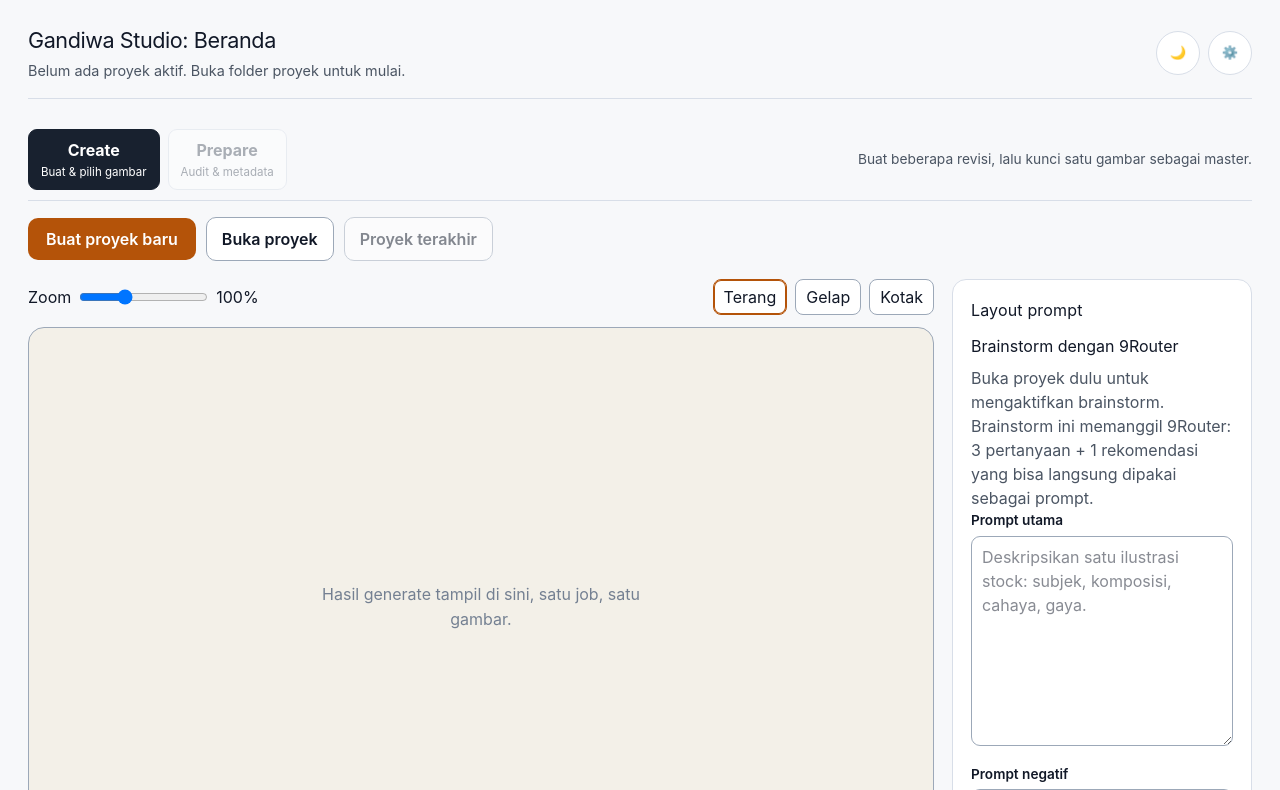
it: Beranda — setelan: bahasa & API key › renders the hallmacked settings desk with real provider connection controls and no tabs
Click the button named "Setelan". click: (1230, 53)
box: [1208, 31, 1252, 75]
(page scrolled)
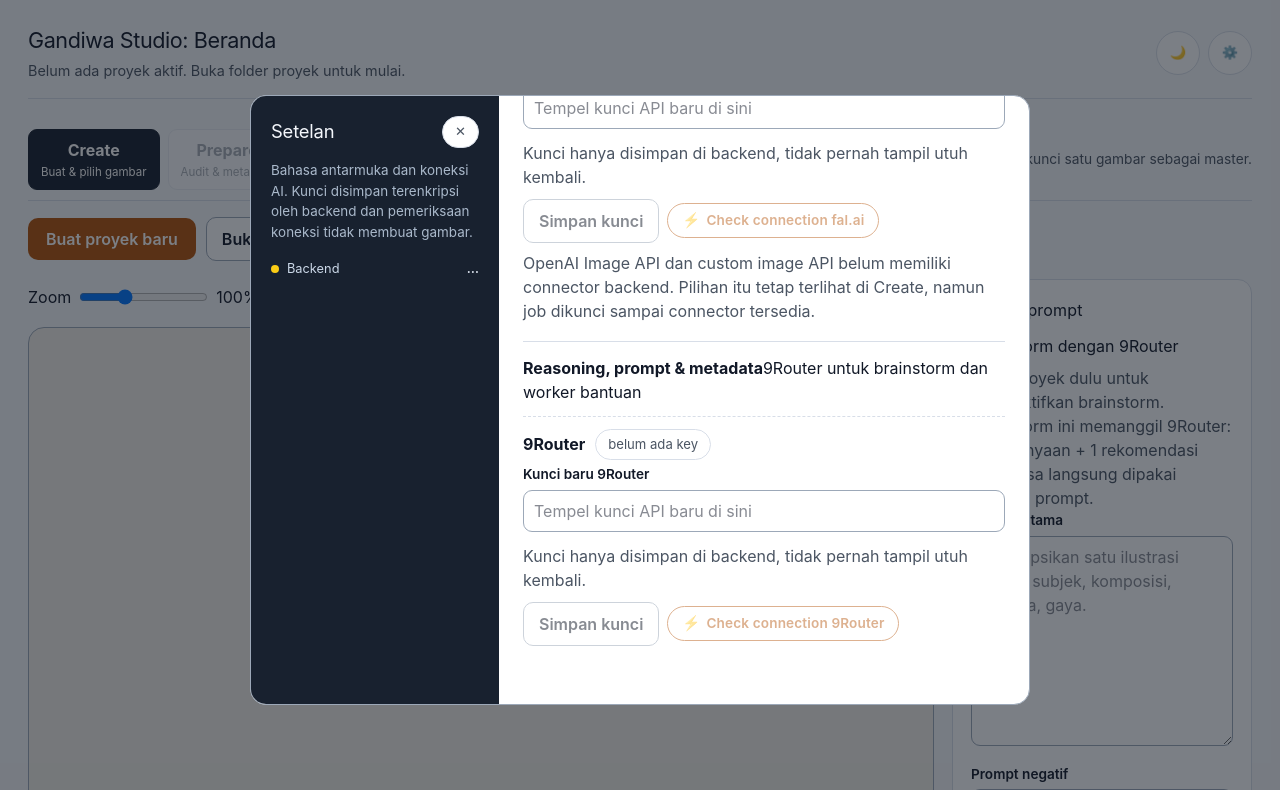
Expected: the element with class "beranda-settings-mast" shows "Setelan", [271, 120, 334, 142]
Expected: the element with class "beranda-settings-ledger" shows "Reasoning, prompt & metadata", [523, 358, 763, 378]
Expected: the button with aria-label "Simpan kunci fal.ai" is shown, [523, 198, 659, 242]
